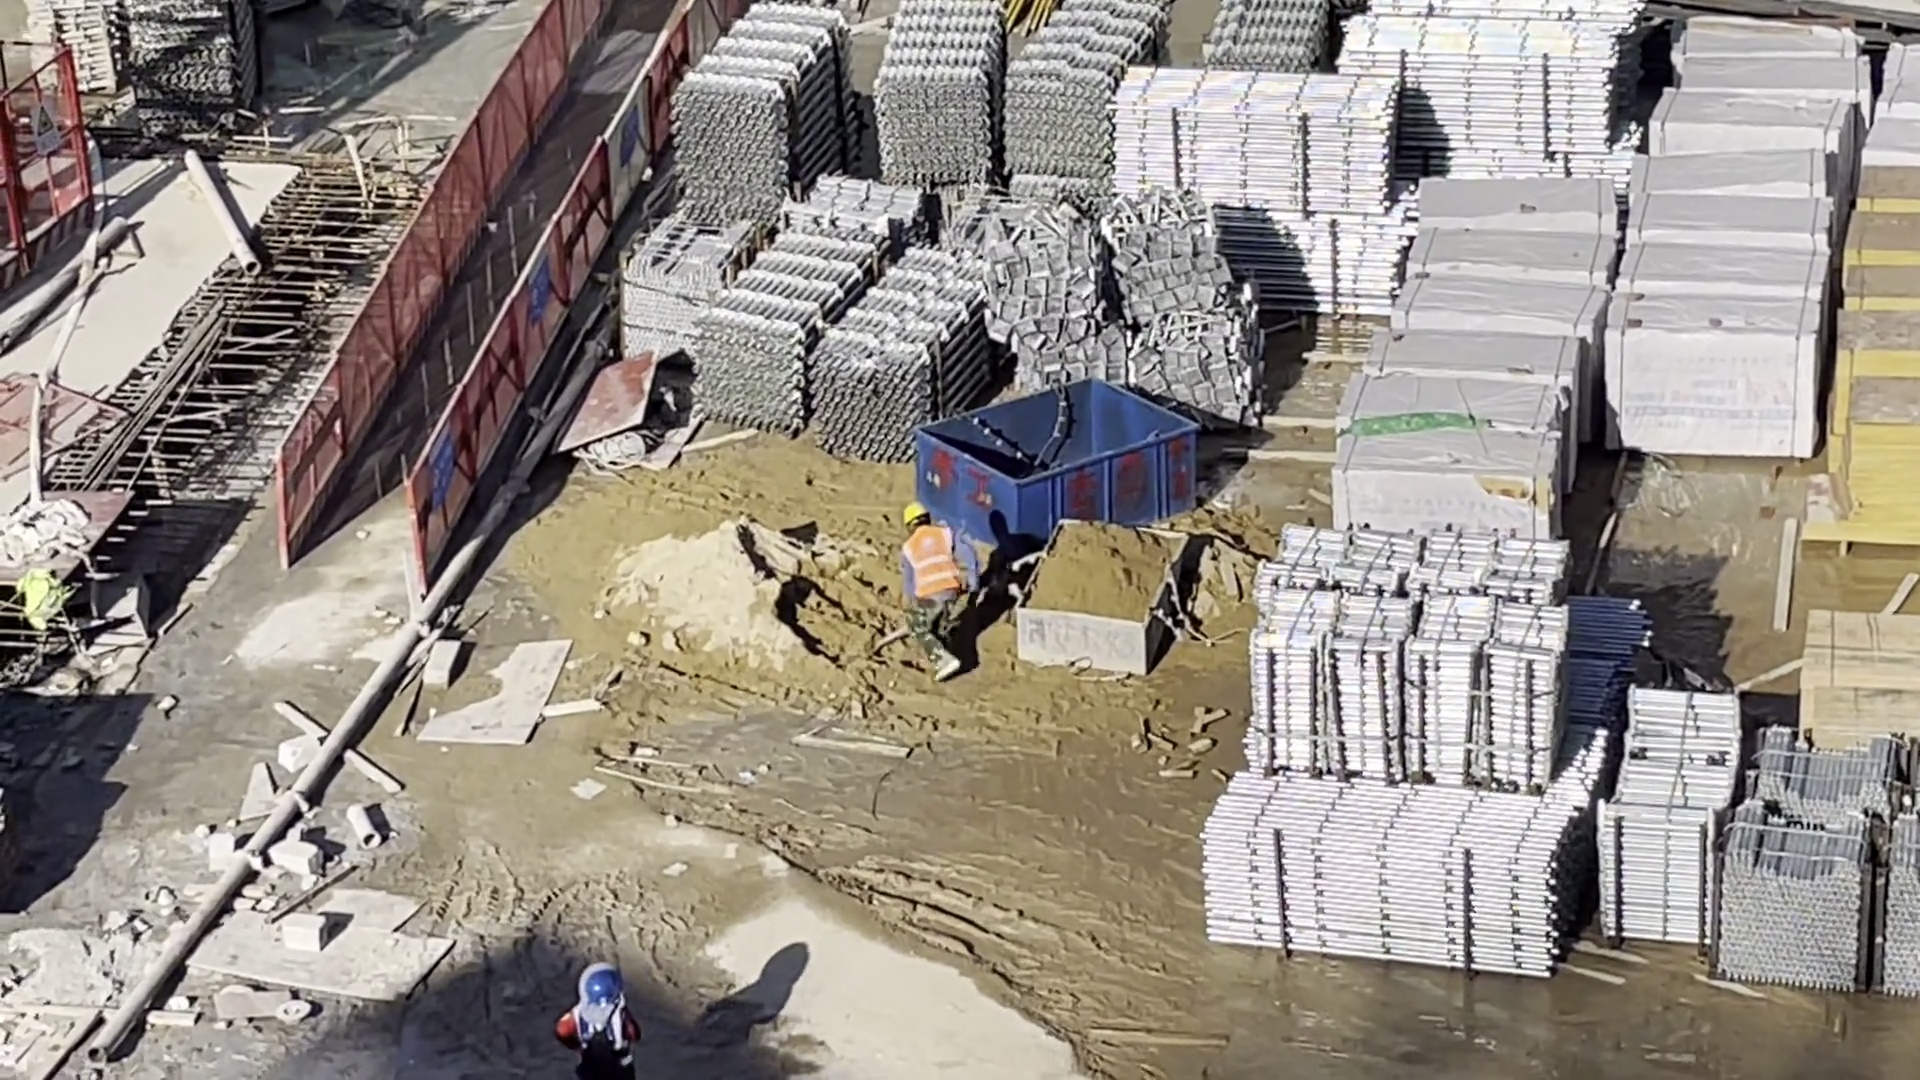board: (1838, 165, 1920, 546), (1802, 604, 1920, 725)
fence: (285, 6, 700, 558)
helmet: (584, 970, 624, 1009), (900, 501, 931, 529)
hopper: (913, 376, 1196, 545), (1017, 518, 1189, 673)
person: (900, 501, 970, 688), (565, 964, 639, 1080)
scaffold: (1244, 526, 1566, 793), (1194, 777, 1588, 980), (1111, 62, 1402, 308), (697, 229, 996, 457), (877, 4, 1171, 189), (1717, 731, 1917, 999), (1344, 8, 1619, 160), (674, 7, 848, 222), (1600, 680, 1724, 941), (131, 1, 265, 122), (1205, 4, 1332, 76), (36, 1, 120, 93)
slogan: (433, 426, 456, 519), (528, 246, 551, 319)
vest: (904, 531, 958, 599), (577, 1011, 627, 1051)
